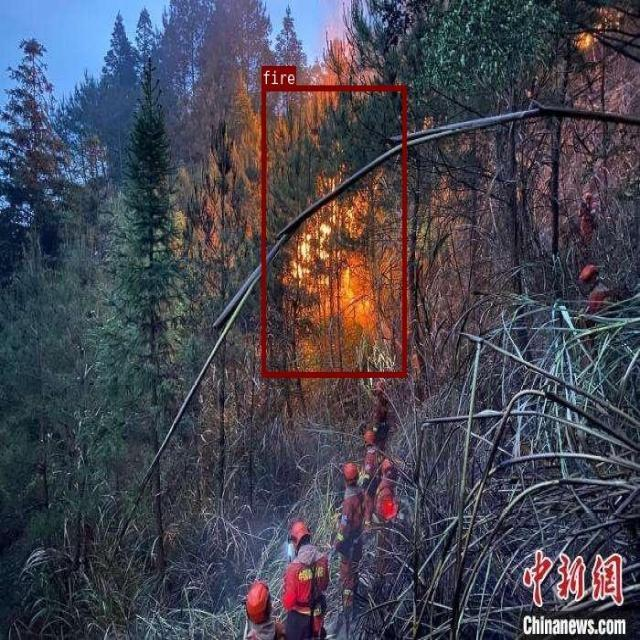fire: (261, 85, 406, 376)
